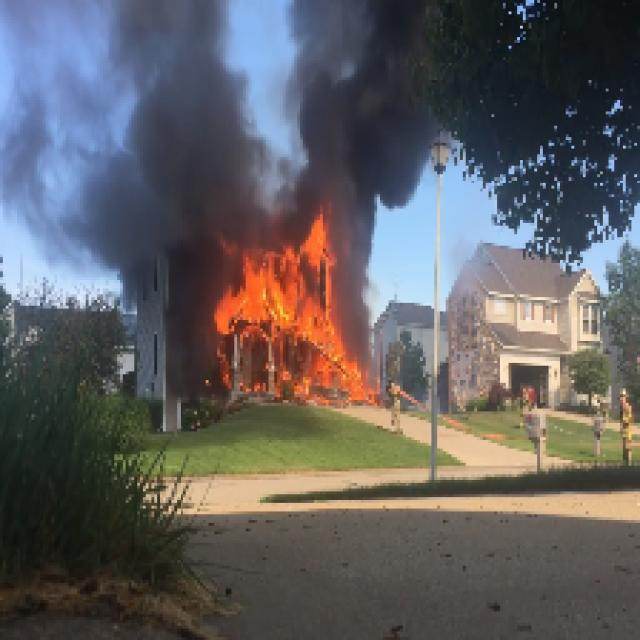Fire: (294, 206, 334, 383), (214, 246, 292, 334)
Smoke: (2, 3, 278, 234), (277, 3, 420, 200), (346, 200, 412, 360)
